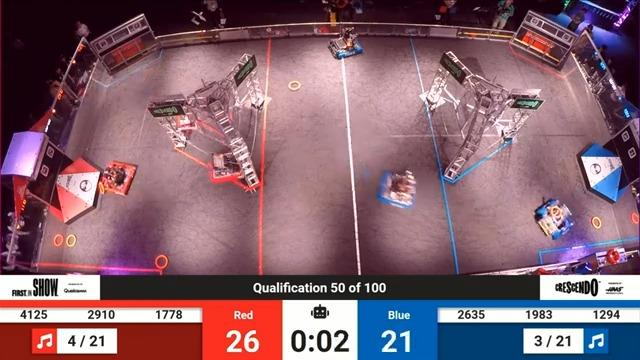robot: (535, 187, 577, 241), (378, 164, 421, 210), (98, 157, 143, 198), (324, 24, 368, 63), (207, 147, 249, 184), (165, 106, 201, 141)
